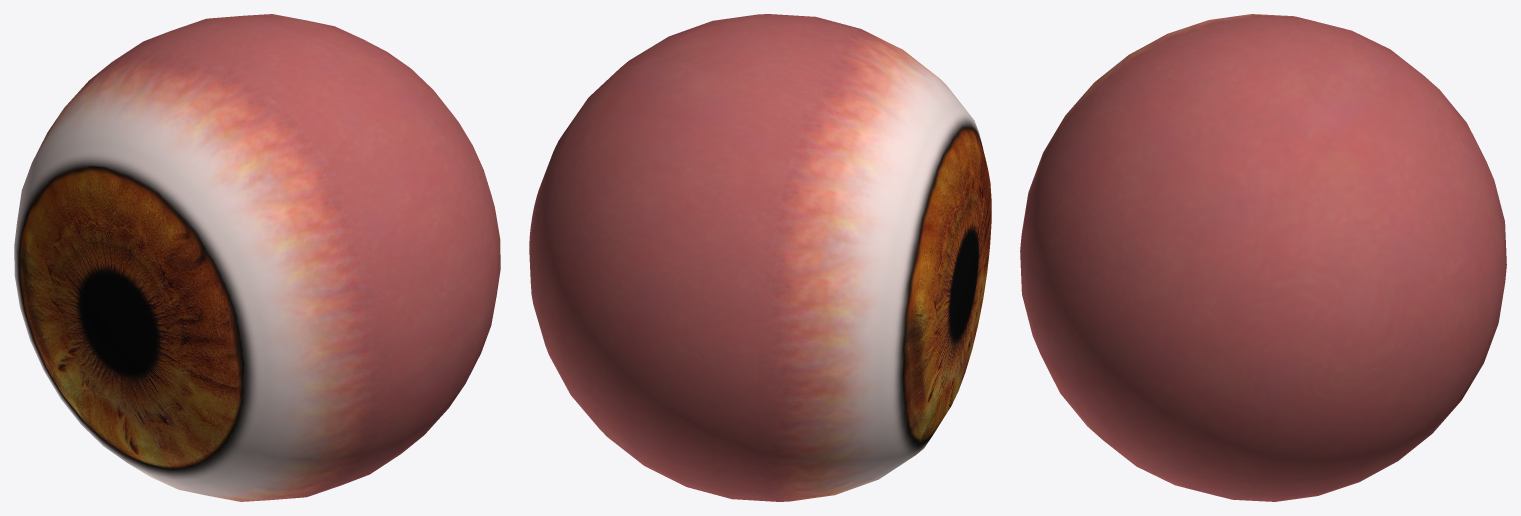
File: Eye R.fbx
3 views of the same model, side by side, from view 1: azimuth 30°, elevation 25°; view 2: azimuth 150°, elevation 25°; view 3: azimuth 270°, elevation 25° (orthographic).
Parts seen in each view (by area): view 1: Eye R_LOD0; view 2: Eye R_LOD0; view 3: Eye R_LOD0.
Boxes of the visible parts, x1=… form: Eye R_LOD0: x1=14, y1=14, x2=500, y2=501; Eye R_LOD0: x1=529, y1=14, x2=991, y2=501; Eye R_LOD0: x1=1020, y1=14, x2=1506, y2=501.
Bounding box in the file's own units: 7.49 × 7.9 × 7.91.
